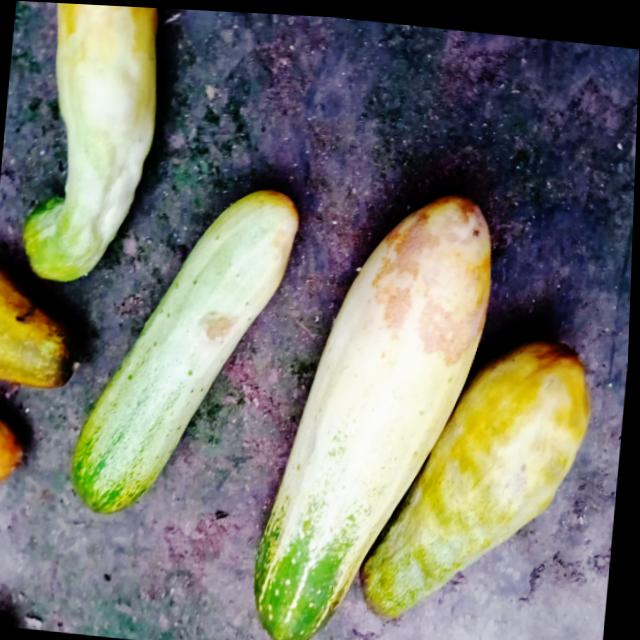Belly-Rot: (345, 182, 527, 372), (197, 291, 249, 348)
